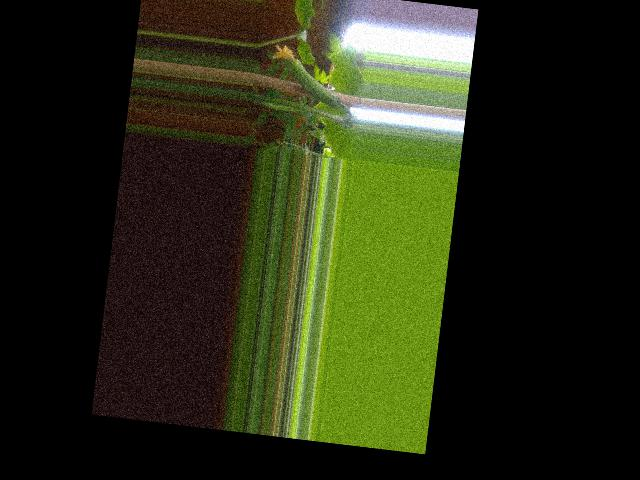cucumber: (266, 43, 346, 108)
